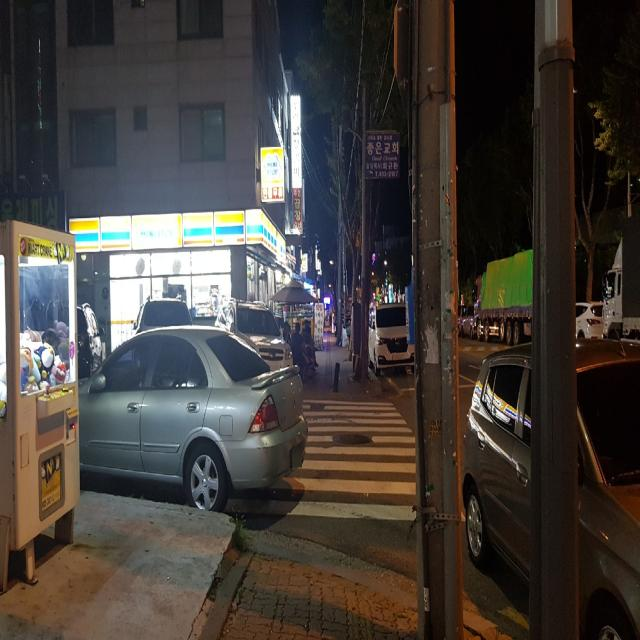횡단보도: (223, 400, 467, 524)
